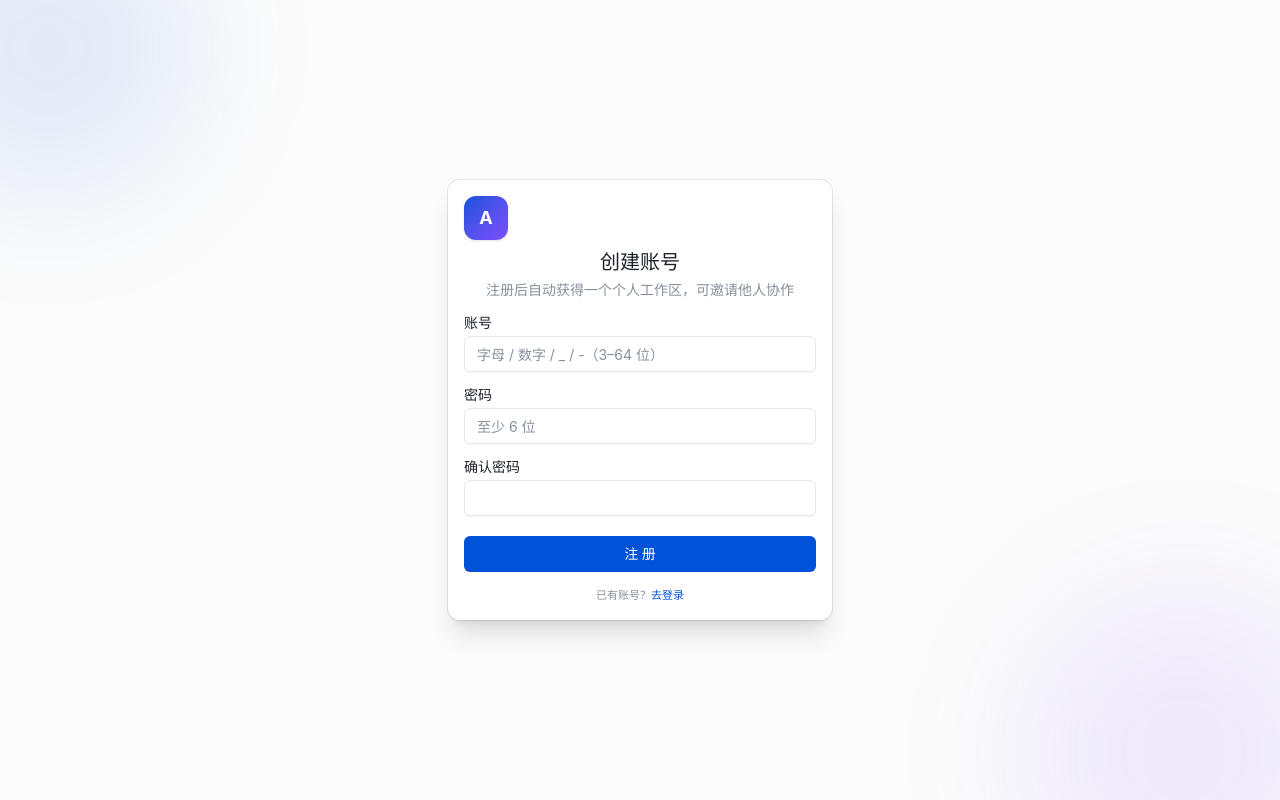
Test: T46a-4：注册页 › 后端校验失败时显示人话（不再是原始 JSON 数组）
Type "alice" into the field with test id "register-username" at coordinates (640, 354), box x1=464 y1=336 x2=816 y2=372
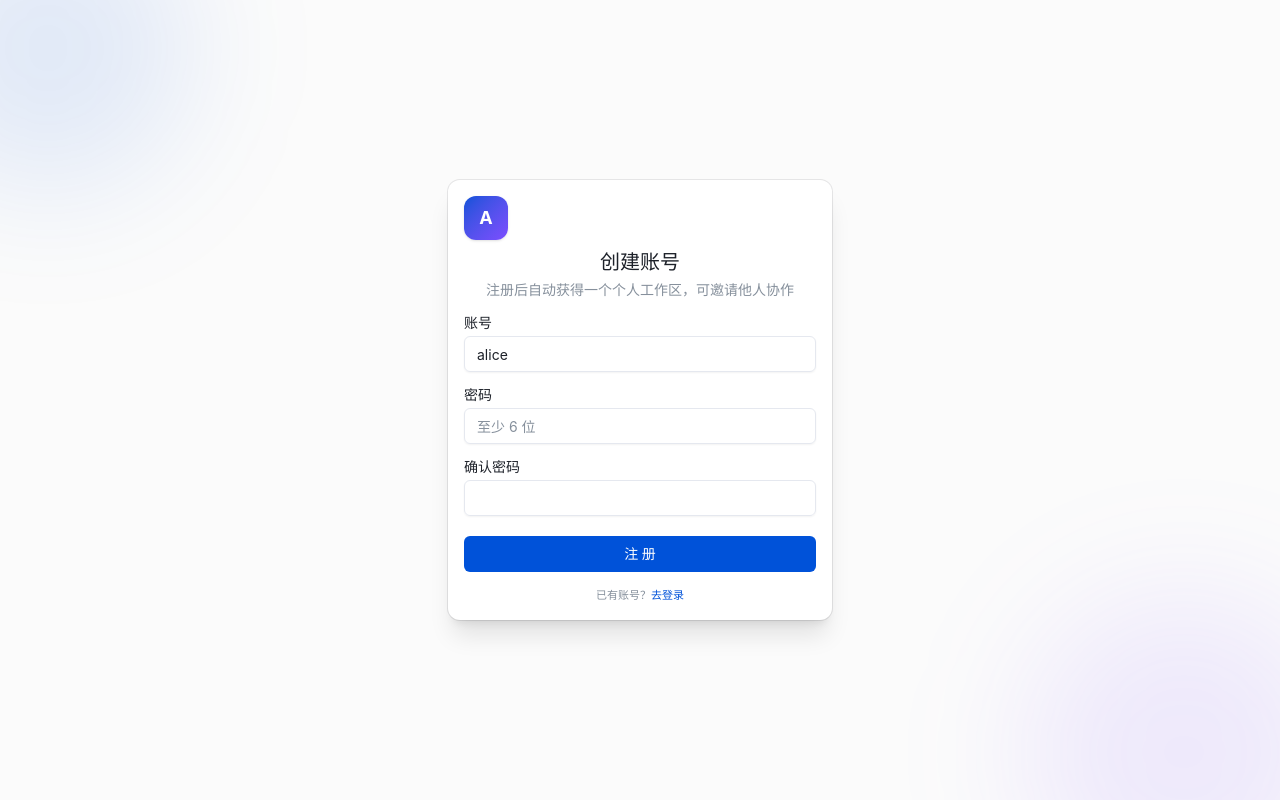
Type "alice123" into the password field with test id "register-password" at coordinates (640, 426), box x1=464 y1=408 x2=816 y2=444
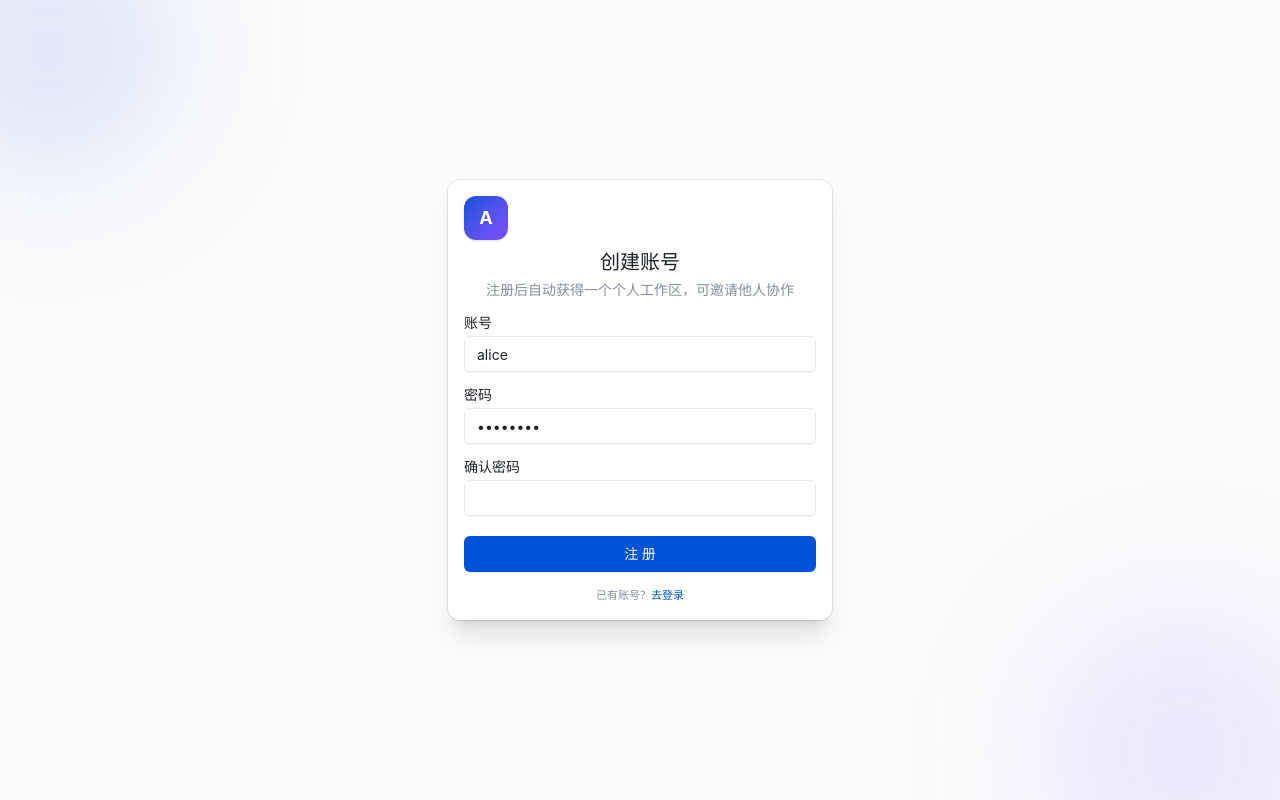
Type "alice123" into the password field with test id "register-confirm" at coordinates (640, 498), box x1=464 y1=480 x2=816 y2=516
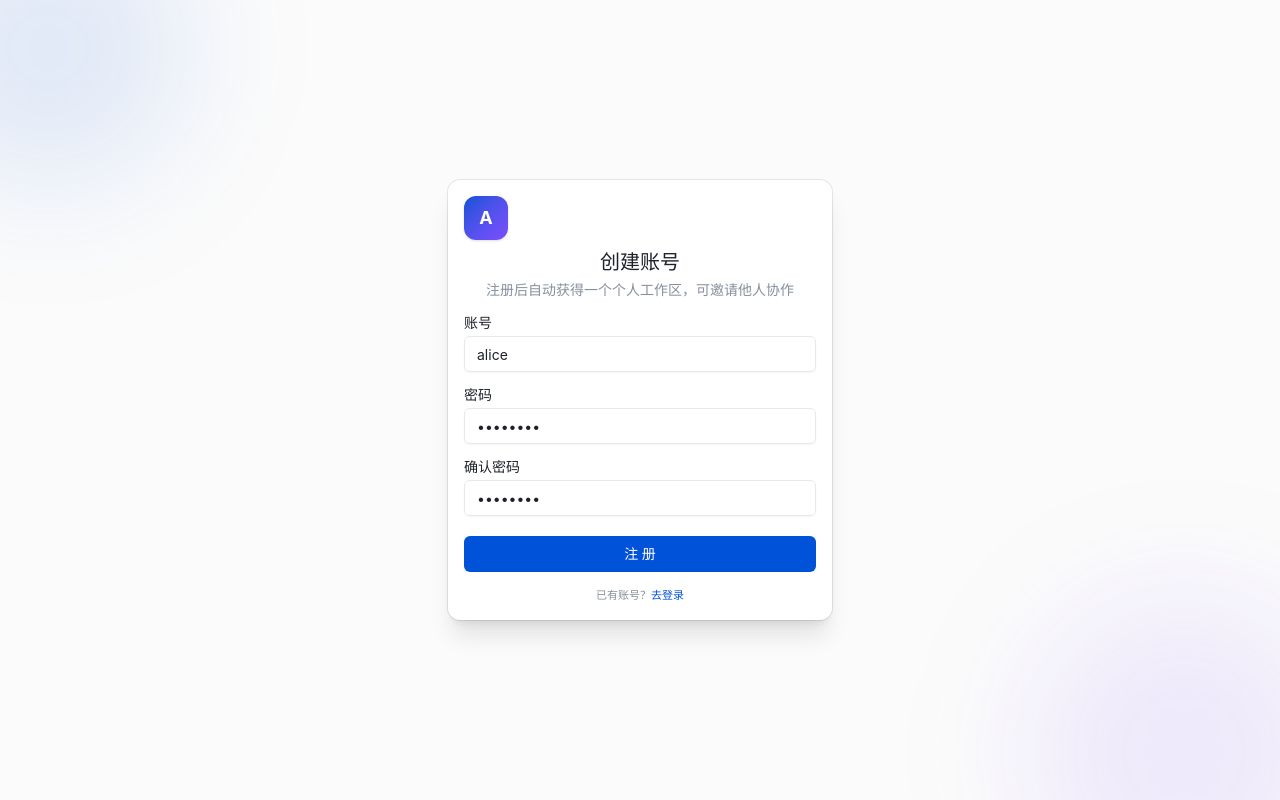
Click the button with test id "register-submit" at coordinates (640, 554), box x1=464 y1=536 x2=816 y2=572
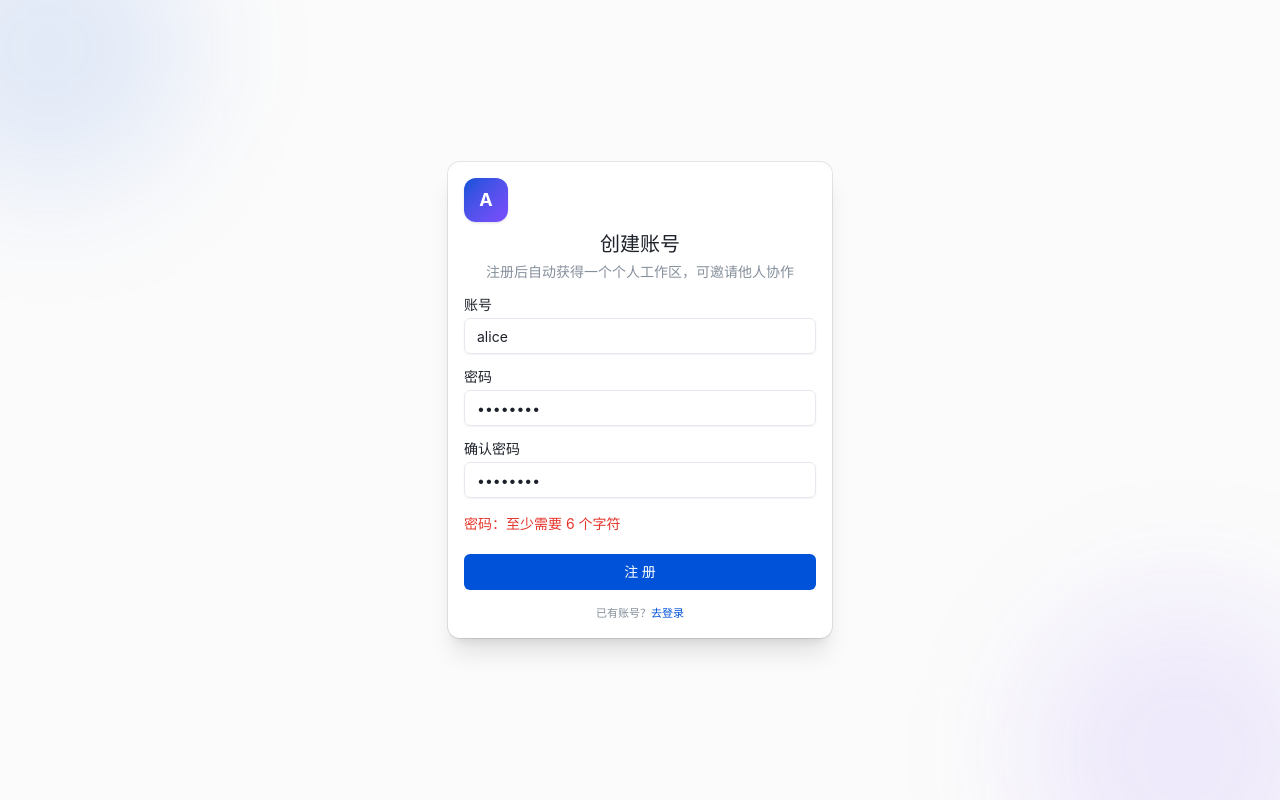
Expected: the text with test id "register-error" reads "密码：至少需要 6 个字符", x1=464 y1=515 x2=621 y2=532
